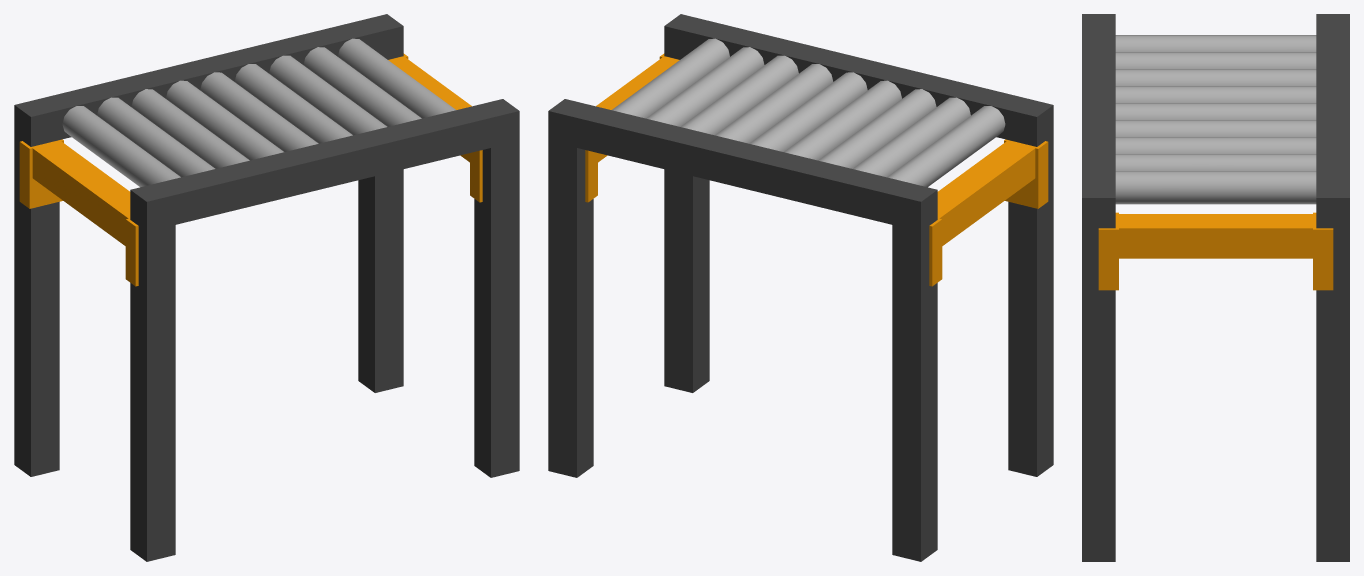
The model's file is Flowthrough Rack.glb.
3 renders of one model, left to right at view 1: azimuth 30°, elevation 25°; view 2: azimuth 150°, elevation 25°; view 3: azimuth 270°, elevation 25°, orthographic.
Visible parts, largest first — view 1: Mesh [04fg], Mesh [04cg], Mesh [04eg], Mesh [04dg], Mesh [04bg], Mesh [04gg], Mesh [04Eg], Mesh [044g], Mesh [04Ag], Mesh [045g], Mesh [048g], Mesh [046g] (+8 smaller); view 2: Mesh [04dg], Mesh [04bg], Mesh [04gg], Mesh [04eg], Mesh [04cg], Mesh [04fg], Mesh [04Eg], Mesh [044g], Mesh [04Ag], Mesh [045g], Mesh [048g], Mesh [046g] (+8 smaller); view 3: Mesh [04bg], Mesh [04cg], Mesh [04Dg], Mesh [04Cg], Mesh [04fg], Mesh [04gg], Mesh [044g], Mesh [045g], Mesh [046g], Mesh [047g], Mesh [048g], Mesh [049g] (+6 smaller).
Part boxes in pixels (bbox=[...]): Mesh [04fg]: bbox=[130, 106, 490, 231]; Mesh [04cg]: bbox=[474, 99, 519, 477]; Mesh [04eg]: bbox=[130, 183, 175, 561]; Mesh [04dg]: bbox=[14, 98, 59, 476]; Mesh [04bg]: bbox=[358, 14, 403, 392]; Mesh [04gg]: bbox=[14, 21, 374, 146]; Mesh [04Eg]: bbox=[31, 140, 130, 245]; Mesh [044g]: bbox=[62, 106, 180, 187]; Mesh [04Ag]: bbox=[269, 55, 387, 135]; Mesh [045g]: bbox=[97, 97, 215, 177]; Mesh [048g]: bbox=[200, 72, 318, 151]; Mesh [046g]: bbox=[131, 89, 249, 168]; Mesh [04dg]: bbox=[892, 183, 937, 561]; Mesh [04bg]: bbox=[548, 99, 593, 477]; Mesh [04gg]: bbox=[577, 106, 937, 231]; Mesh [04eg]: bbox=[1008, 98, 1053, 476]; Mesh [04cg]: bbox=[664, 14, 709, 392]; Mesh [04fg]: bbox=[693, 21, 1053, 146]; Mesh [04Eg]: bbox=[937, 140, 1036, 245]; Mesh [044g]: bbox=[887, 106, 1005, 187]; Mesh [04Ag]: bbox=[680, 55, 798, 135]; Mesh [045g]: bbox=[852, 97, 970, 177]; Mesh [048g]: bbox=[749, 72, 867, 151]; Mesh [046g]: bbox=[818, 89, 936, 168]; Mesh [04bg]: bbox=[1316, 183, 1349, 561]; Mesh [04cg]: bbox=[1082, 183, 1115, 561]; Mesh [04Dg]: bbox=[1115, 214, 1316, 258]; Mesh [04Cg]: bbox=[1115, 171, 1316, 204]; Mesh [04fg]: bbox=[1082, 14, 1115, 183]; Mesh [04gg]: bbox=[1316, 14, 1349, 183]; Mesh [044g]: bbox=[1115, 35, 1316, 51]; Mesh [045g]: bbox=[1115, 52, 1316, 68]; Mesh [046g]: bbox=[1115, 69, 1316, 85]; Mesh [047g]: bbox=[1115, 86, 1316, 102]; Mesh [048g]: bbox=[1115, 103, 1316, 119]; Mesh [049g]: bbox=[1115, 120, 1316, 136].
Bounding box in the file's own units: 0.66 × 0.6 × 0.4.
